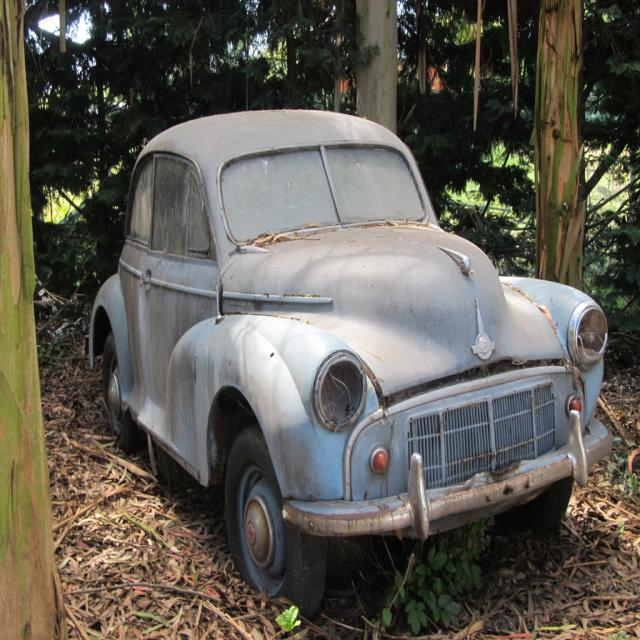car: (90, 108, 612, 599)
